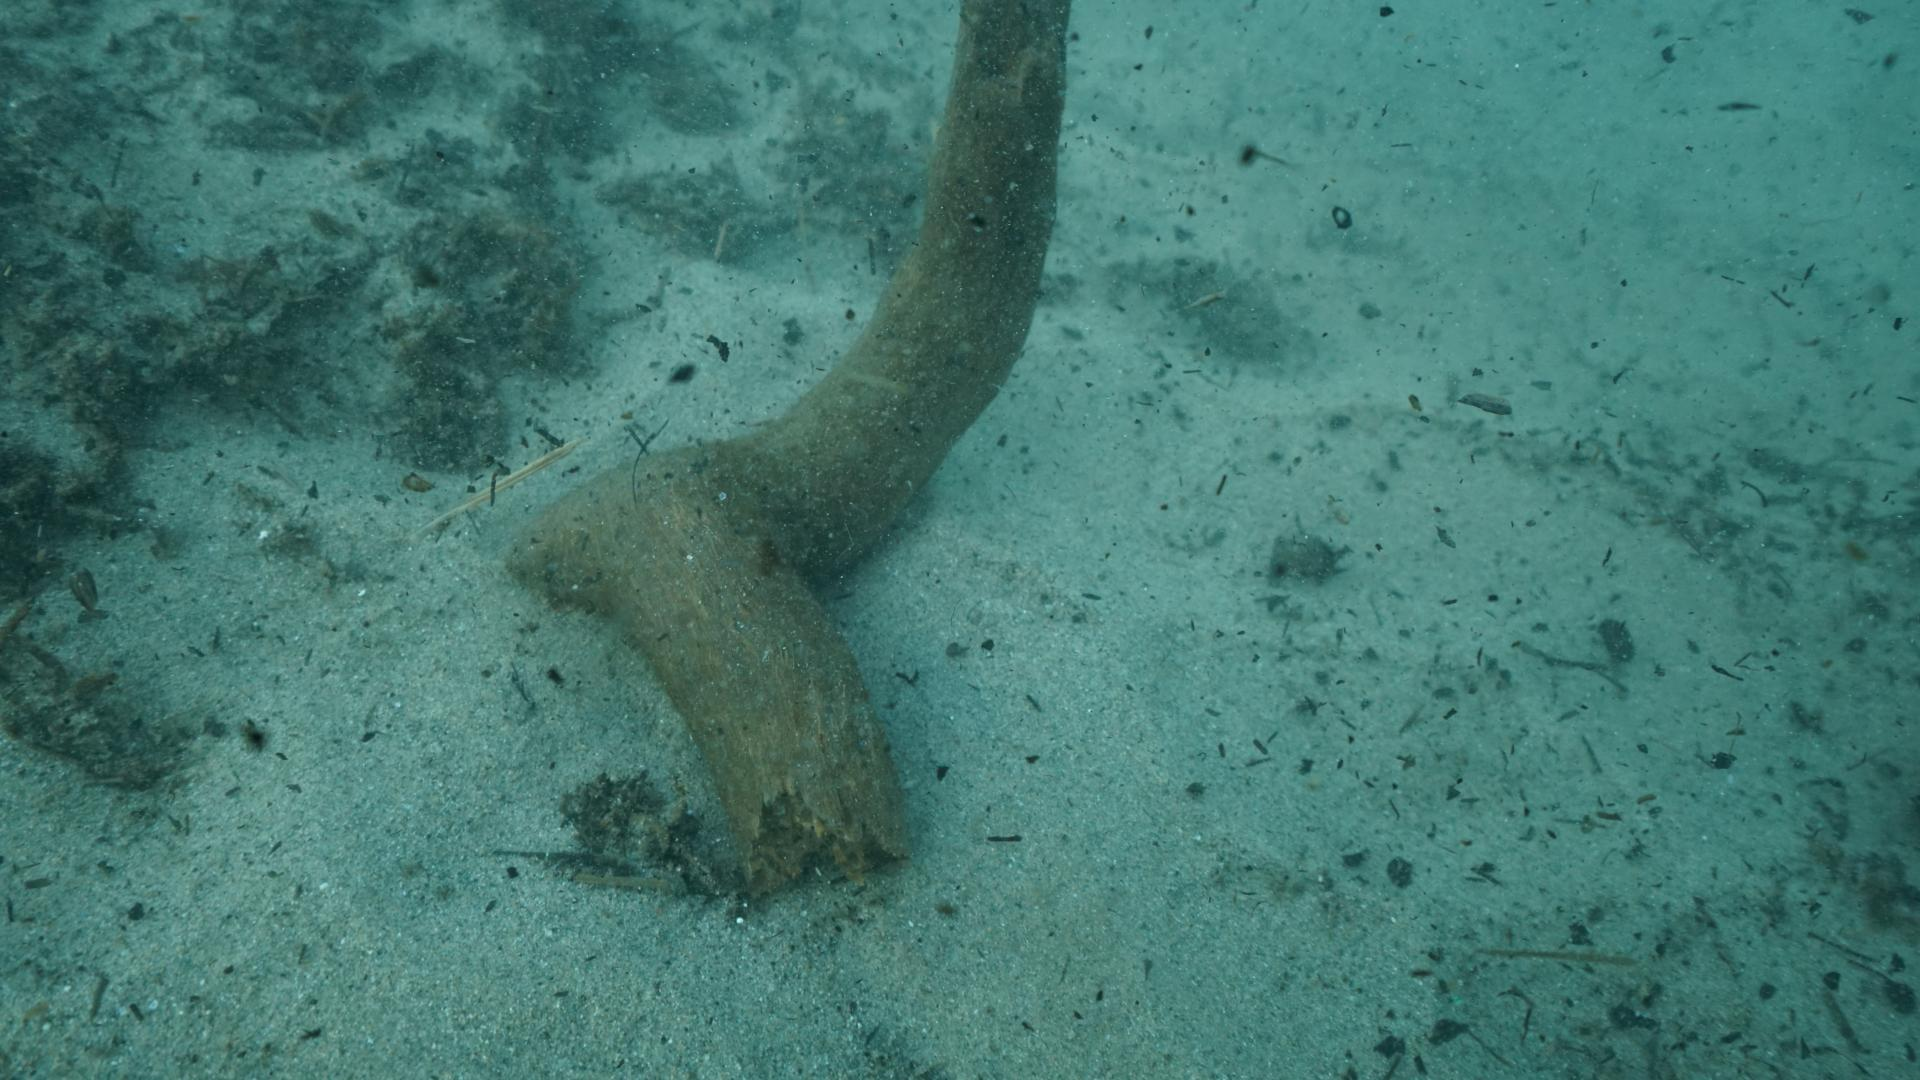wood: (510, 0, 1071, 891)
